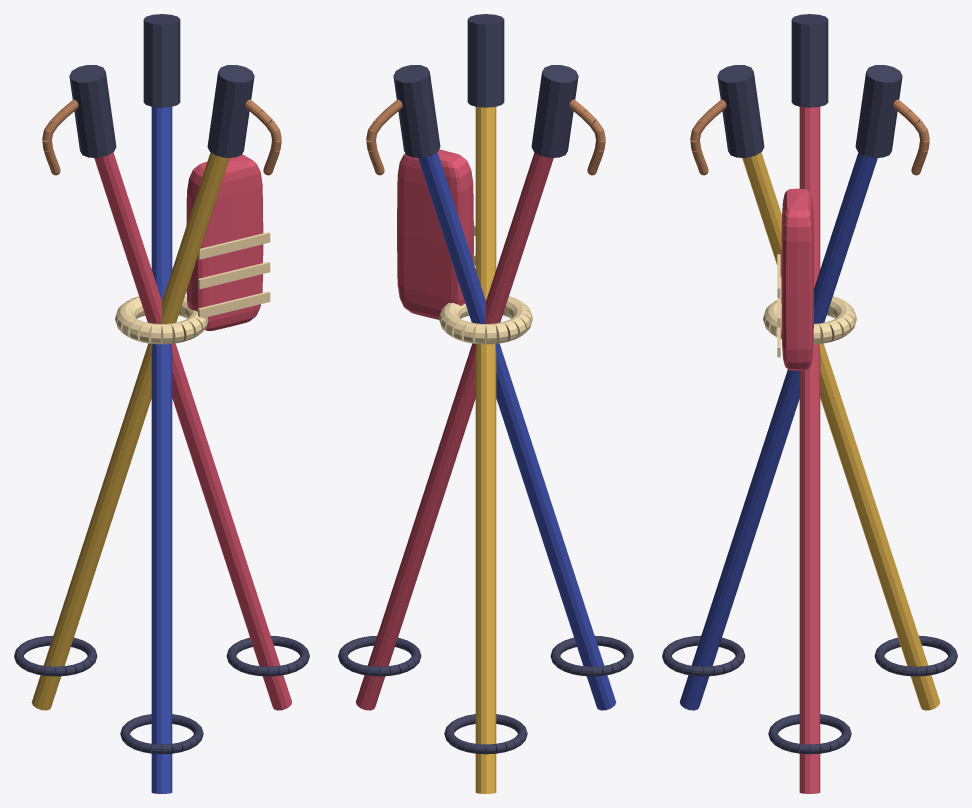
File: ski-pole-coat-rack.glb
3 views of the same model, side by side, from view 1: azimuth 30°, elevation 25°; view 2: azimuth 150°, elevation 25°; view 3: azimuth 270°, elevation 25° (orthographic).
Visible parts, largest first — view 1: ski-pole-coat-rack; view 2: ski-pole-coat-rack; view 3: ski-pole-coat-rack.
Boxes of the visible parts, box(x1,y1,x2,y2) form: ski-pole-coat-rack: box(14, 14, 309, 793); ski-pole-coat-rack: box(338, 14, 633, 793); ski-pole-coat-rack: box(662, 14, 957, 793).
Size of the model in its own units: 0.7384 by 1.84 by 0.7234.
